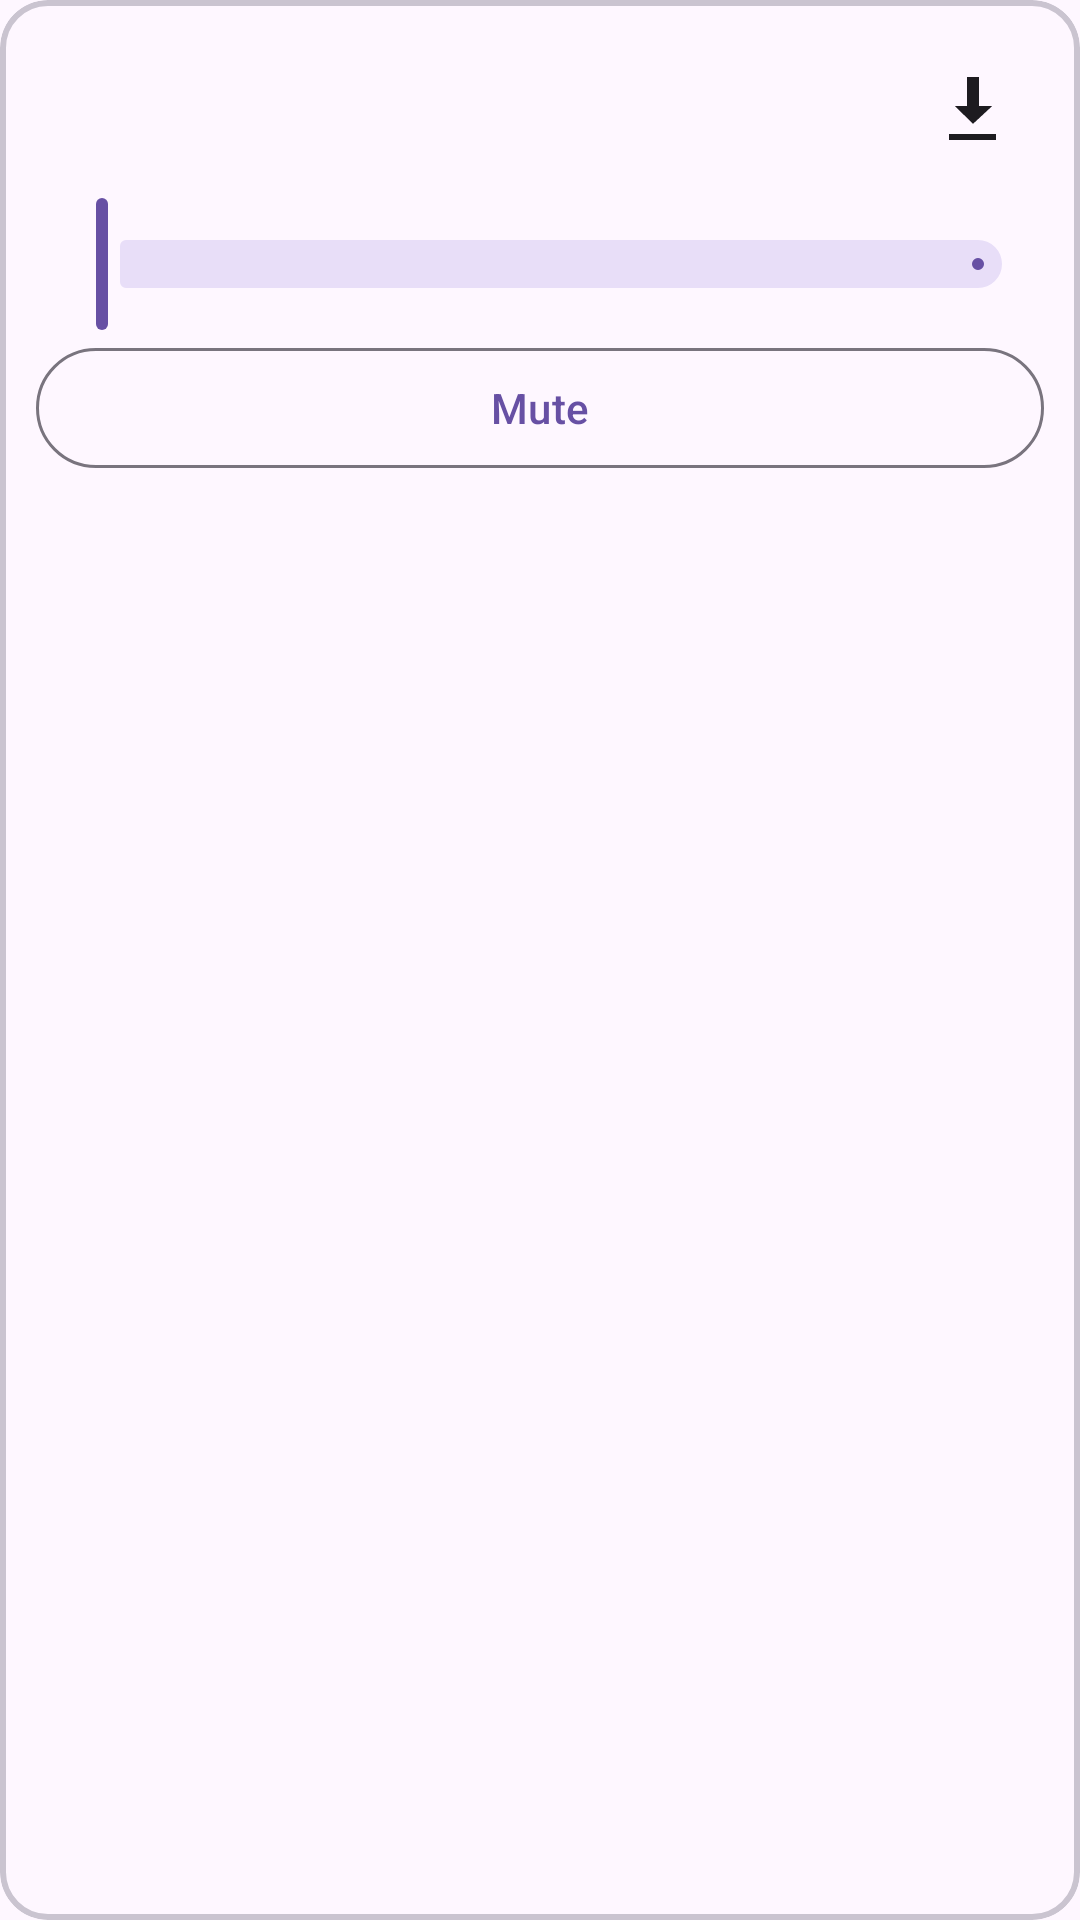

Named icons in this screenshot (1080*1920) and their bounding boxes, (x1, y1, x2, y2):
Export stem?: (949, 77, 996, 140)
